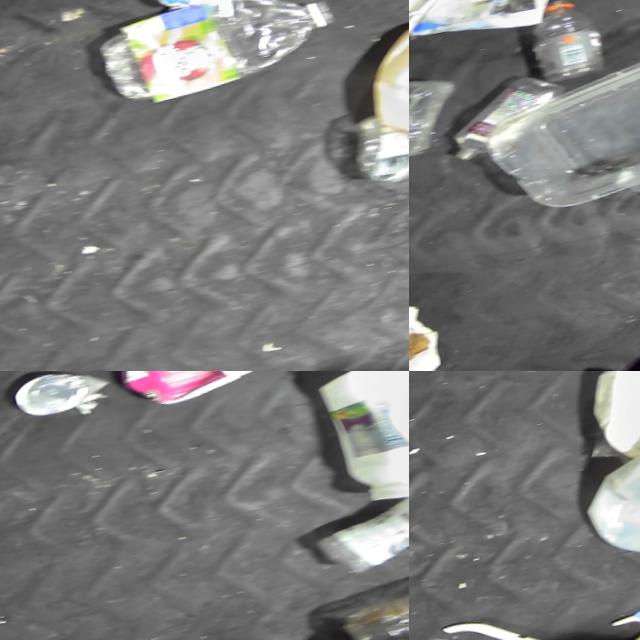can: (11, 371, 96, 422)
milk_jug: (312, 371, 409, 513), (585, 415, 640, 561), (358, 0, 409, 152)
plastic_bottle: (92, 0, 351, 113), (443, 63, 581, 162), (522, 0, 617, 85), (339, 532, 409, 640)
